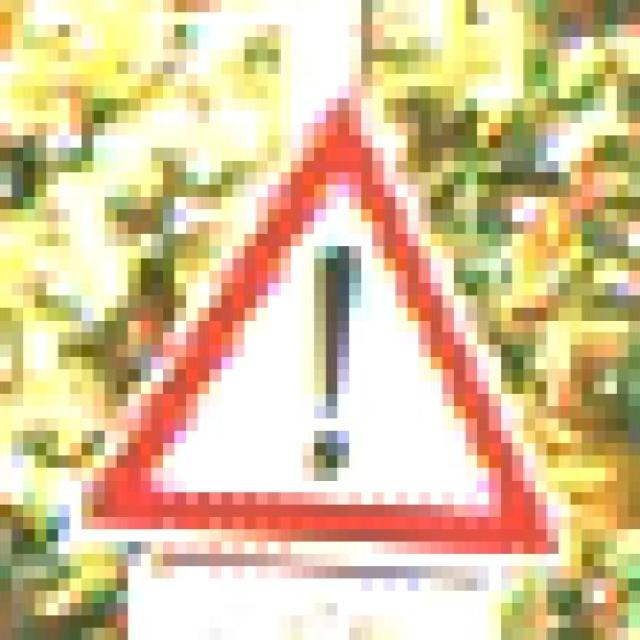Attention Please-: (46, 61, 594, 578)
